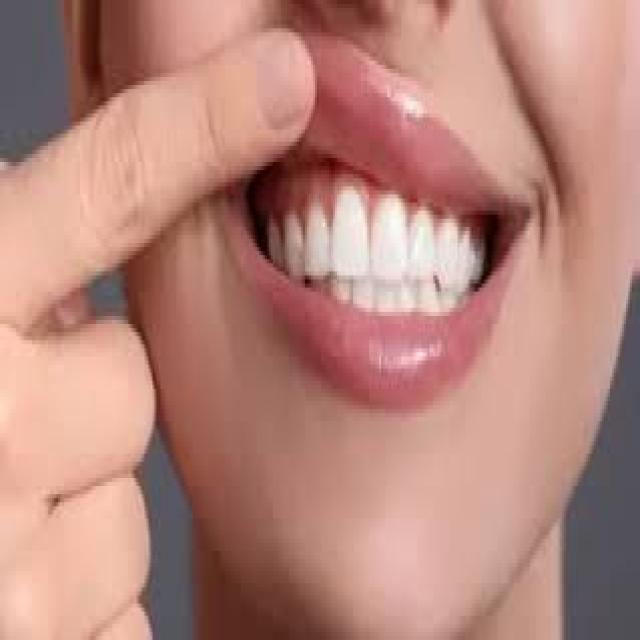tooth: (331, 190, 365, 272), (369, 211, 401, 255), (307, 198, 325, 272), (285, 219, 301, 271), (460, 231, 476, 279), (412, 215, 429, 255), (436, 239, 456, 271)
